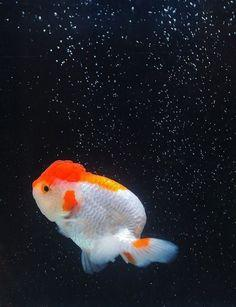goldfish: (20, 148, 187, 283)
